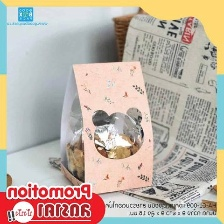snack: (53, 55, 159, 200)
